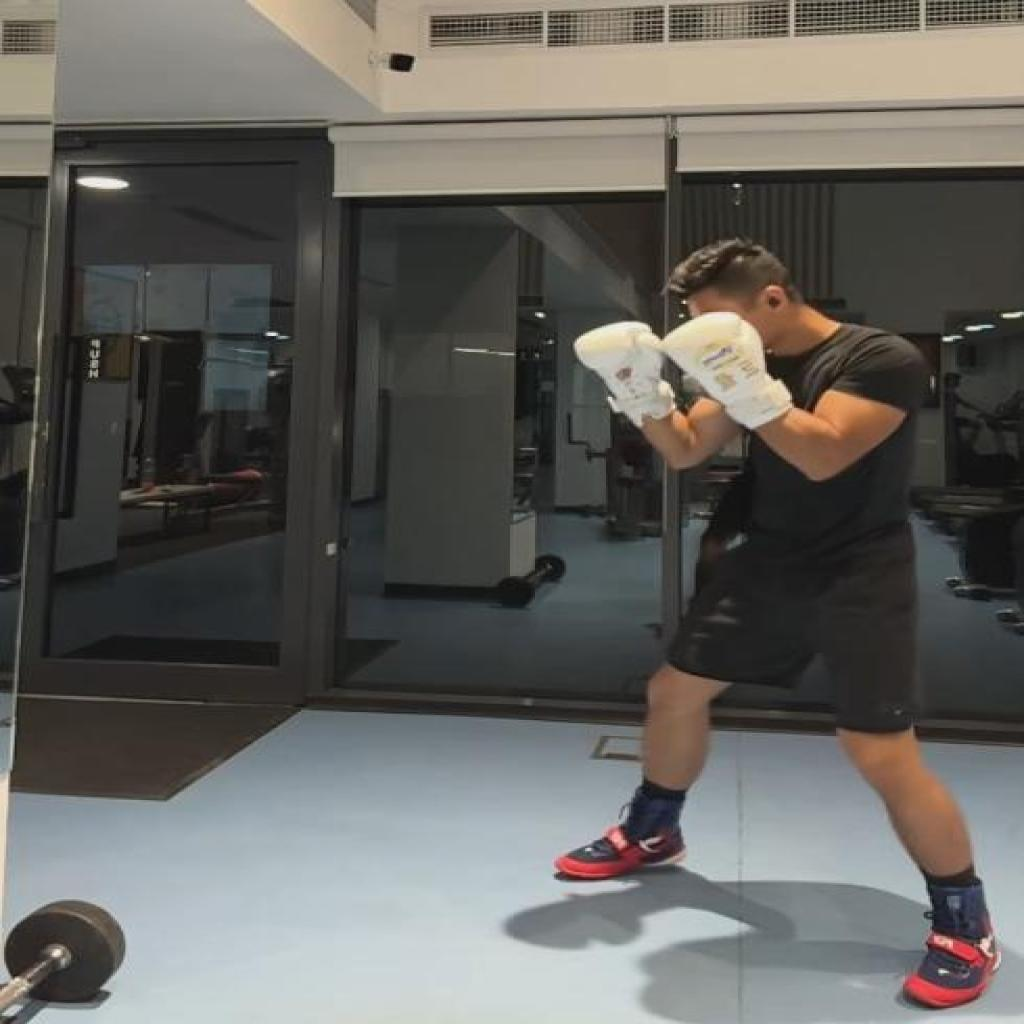no punch: (556, 242, 1003, 1011)
